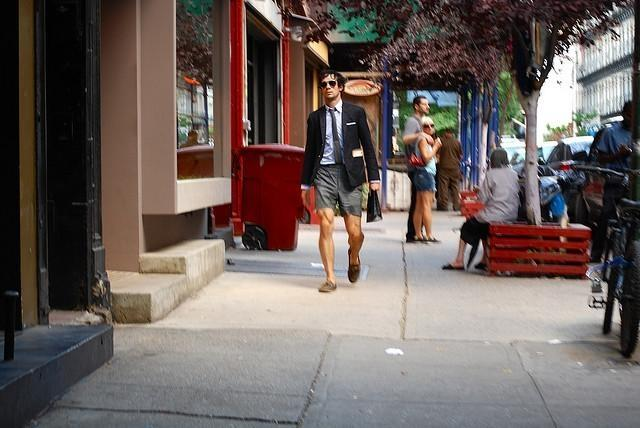bicycle: (573, 166, 640, 354)
car: (570, 124, 640, 238), (546, 138, 594, 172), (499, 142, 526, 165), (538, 141, 558, 162)
